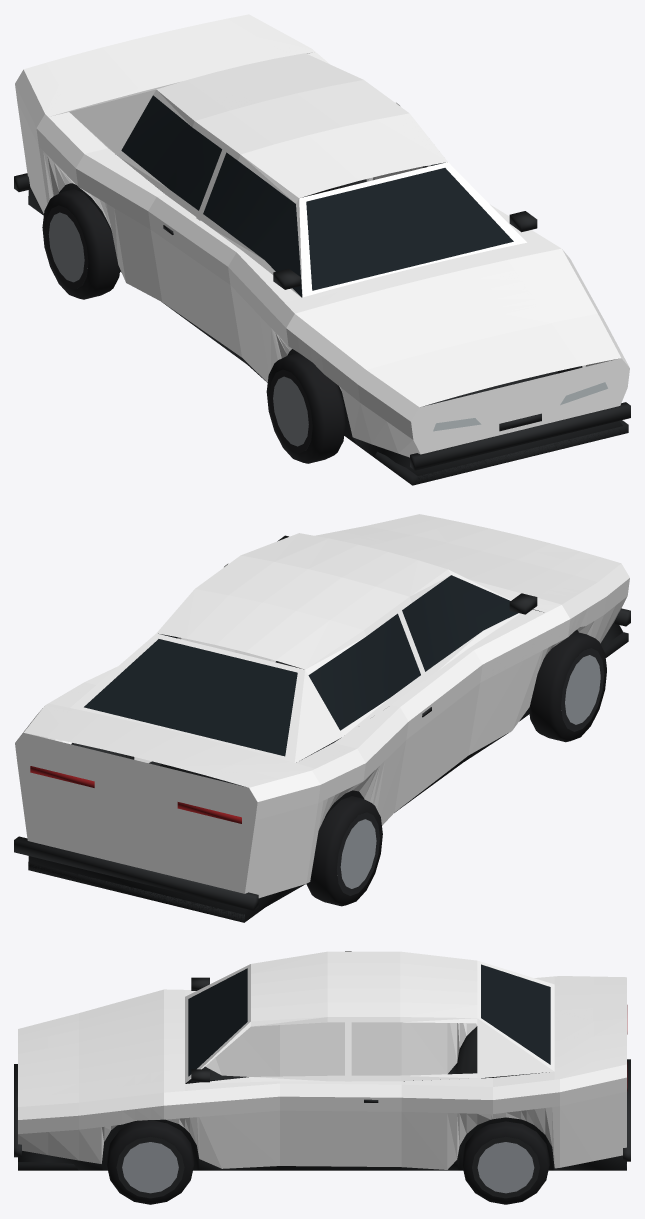
Rendered from rauhe_cursor.glb.
The picture shows the model from 3 angles, top to bottom: view 1: azimuth 30°, elevation 25°; view 2: azimuth 150°, elevation 25°; view 3: azimuth 270°, elevation 25°; orthographic projection. The views are drawn at different scales.
Visible parts, largest first — view 1: Body_Paint, Body_Details, Mount_FrontLeft_Wheel_Details, Mount_RearLeft_Wheel_Details; view 2: Body_Paint, Body_Details, Mount_FrontLeft_Wheel_Details, Mount_RearLeft_Wheel_Details; view 3: Body_Paint, Body_Details, Mount_FrontRight_Wheel_Details, Mount_RearRight_Wheel_Details.
Part boxes in pixels (left/top/right/bottom): Body_Paint: left=15, top=14, right=629, bottom=457; Body_Details: left=14, top=95, right=630, bottom=485; Mount_FrontLeft_Wheel_Details: left=266, top=353, right=345, bottom=463; Mount_RearLeft_Wheel_Details: left=42, top=189, right=120, bottom=299; Body_Paint: left=15, top=514, right=629, bottom=898; Body_Details: left=14, top=535, right=630, bottom=922; Mount_FrontLeft_Wheel_Details: left=529, top=631, right=606, bottom=742; Mount_RearLeft_Wheel_Details: left=306, top=796, right=382, bottom=906; Body_Paint: left=18, top=951, right=626, bottom=1169; Body_Details: left=14, top=964, right=630, bottom=1170; Mount_FrontRight_Wheel_Details: left=106, top=1120, right=194, bottom=1204; Mount_RearRight_Wheel_Details: left=462, top=1121, right=549, bottom=1204.
Size of the model in its own units: 1.86 by 1.3 by 4.3.
Materials: 2 (1 with a texture image).
